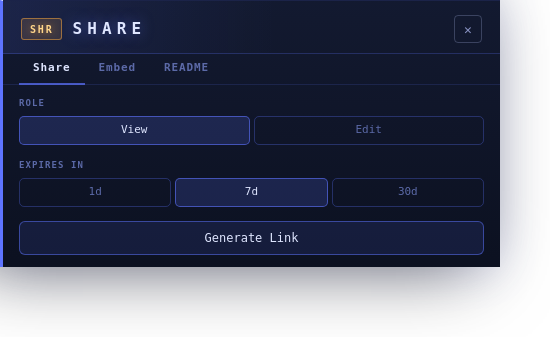
Test: ShareDialog – public toggle › surfaces the server message when the toggle fails
Click the button with class "tab-btn" showing "README": click(186, 69) 150,54 -> 223,84
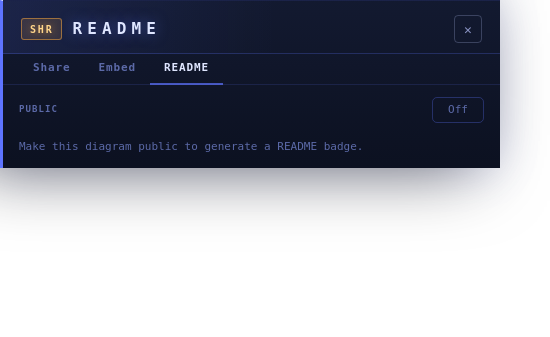
Click the button "Off": click(458, 110) 432,96 -> 484,123
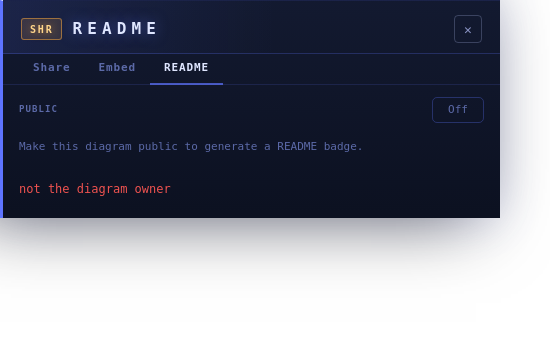
Result: the text "not the diagram owner" is shown at 19,182 -> 171,196
